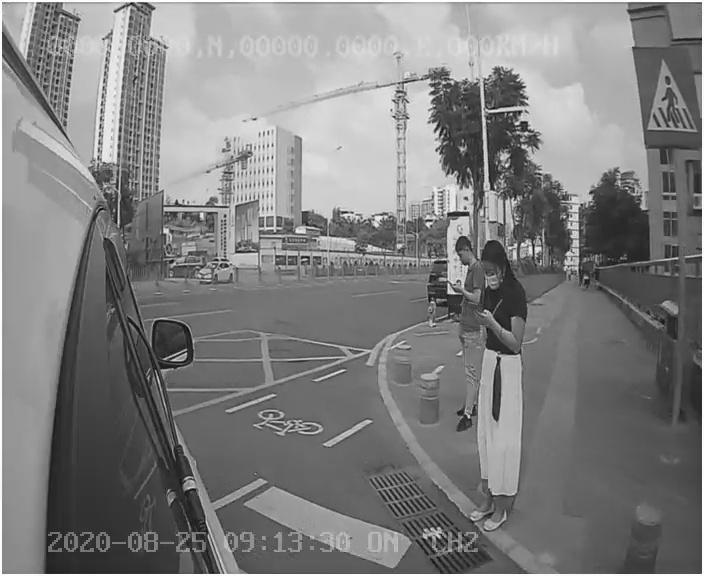person: (460, 240, 542, 531)
